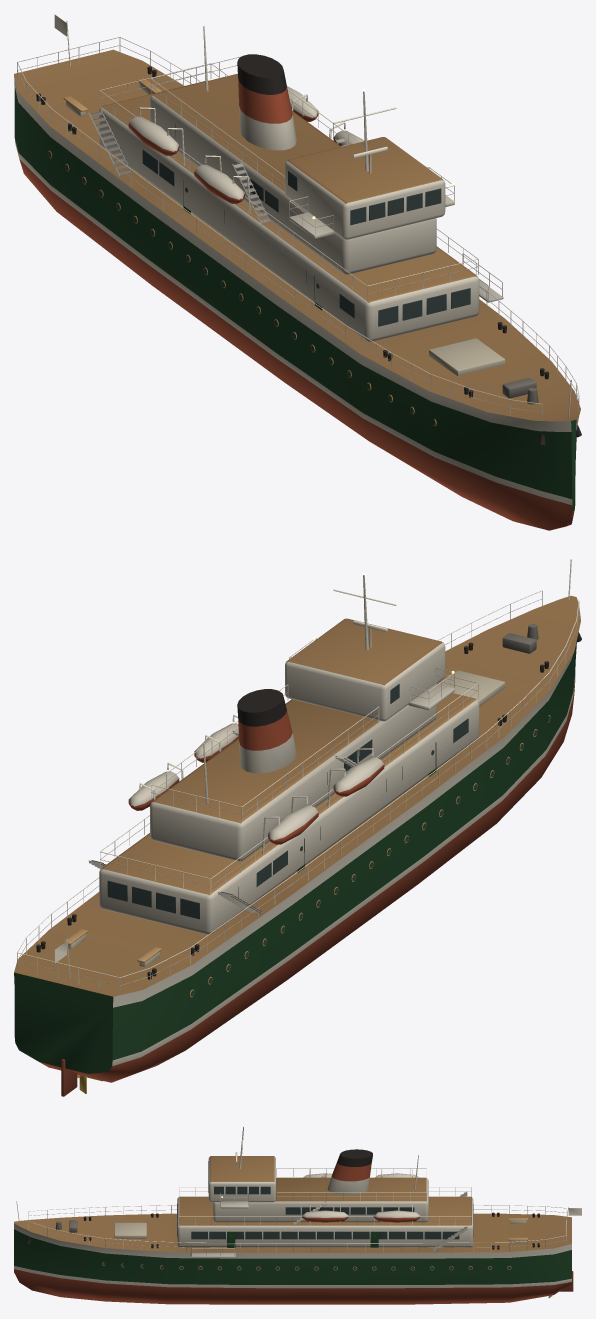
File: passenger_ship.glb
The picture shows the model from 3 angles, top to bottom: view 1: azimuth 30°, elevation 25°; view 2: azimuth 150°, elevation 25°; view 3: azimuth 270°, elevation 25°; orthographic projection. The views are drawn at different scales.
Visible parts, largest first — view 1: passenger_ship_mesh; view 2: passenger_ship_mesh; view 3: passenger_ship_mesh, PART_gangway_mesh.
Boxes of the visible parts, box(x1,y1,x2,y2) form: passenger_ship_mesh: box(14, 21, 581, 530); passenger_ship_mesh: box(14, 559, 581, 1082); passenger_ship_mesh: box(14, 1125, 571, 1304); PART_gangway_mesh: box(190, 1244, 235, 1257).
Bounding box in the file's own units: 12.13 × 21.14 × 63.3.
